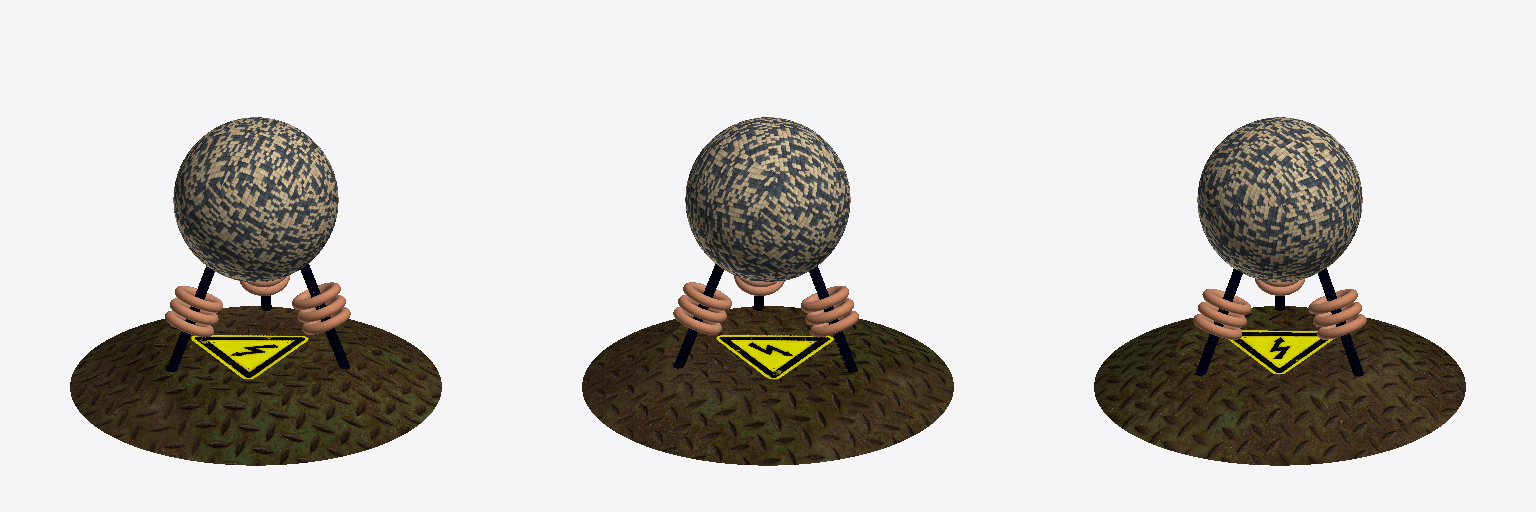
The picture shows the model from 3 angles: view 1: azimuth 30°, elevation 25°; view 2: azimuth 150°, elevation 25°; view 3: azimuth 270°, elevation 25°; orthographic projection.
Parts seen in each view (by area): view 1: stożek_stożek.008, Kula_Kula_ico.004, Noga3_Walec.017, Noga1_Walec.015, Noga2_Walec.016, Cewka1_Torus.014, Cewka2_Torus.015, Cewka3_Torus.016; view 2: stożek_stożek.008, Kula_Kula_ico.004, Noga2_Walec.016, Noga1_Walec.015, Noga3_Walec.017, Cewka1_Torus.014, Cewka2_Torus.015, Cewka3_Torus.016; view 3: stożek_stożek.008, Kula_Kula_ico.004, Noga3_Walec.017, Noga2_Walec.016.
Boxes of the visible parts, x1,y1,x2,y2 form: stożek_stożek.008: [70, 306, 441, 465]; Kula_Kula_ico.004: [173, 117, 338, 281]; Noga3_Walec.017: [292, 264, 350, 368]; Noga1_Walec.015: [166, 266, 214, 371]; Noga2_Walec.016: [240, 275, 289, 310]; Cewka1_Torus.014: [175, 286, 222, 312]; Cewka2_Torus.015: [170, 298, 218, 324]; Cewka3_Torus.016: [165, 311, 213, 337]; stożek_stożek.008: [582, 306, 953, 465]; Kula_Kula_ico.004: [685, 117, 850, 281]; Noga2_Walec.016: [673, 264, 731, 367]; Noga1_Walec.015: [809, 266, 857, 371]; Noga3_Walec.017: [734, 275, 784, 310]; Cewka1_Torus.014: [801, 286, 848, 312]; Cewka2_Torus.015: [805, 298, 853, 324]; Cewka3_Torus.016: [810, 311, 858, 337]; stożek_stożek.008: [1094, 306, 1465, 465]; Kula_Kula_ico.004: [1197, 117, 1362, 281]; Noga3_Walec.017: [1193, 269, 1251, 375]; Noga2_Walec.016: [1308, 268, 1366, 375].
Bounding box in the file's own units: 3.6 × 2.8 × 3.6.
Materials: 1 (1 with a texture image).